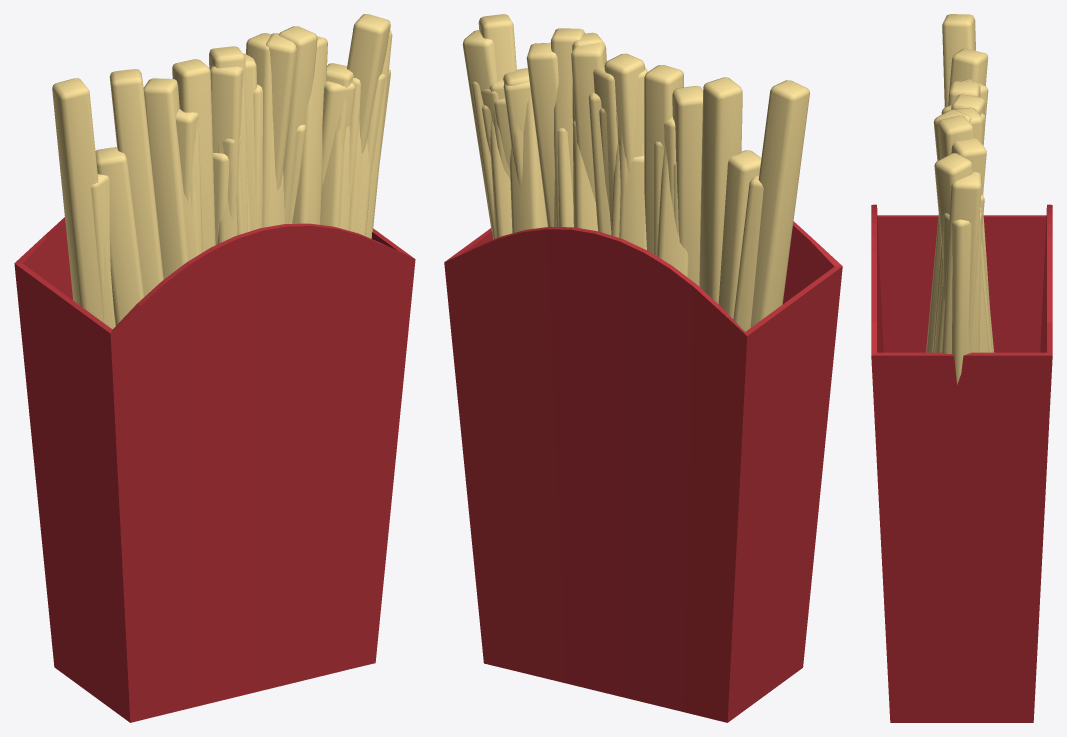
The model's file is food_fries.glb.
3 renders of one model, left to right at view 1: azimuth 30°, elevation 25°; view 2: azimuth 150°, elevation 25°; view 3: azimuth 270°, elevation 25°, orthographic. The views are drawn at different scales.
Parts seen in each view (by area): view 1: Carton_LOD0, Fry_LOD0.006, Fry_LOD0.019, Fry_LOD0.029, Fry_LOD0.015, Fry_LOD0.011, Fry_LOD0.001, Fry_LOD0.027, Fry_LOD0.026, Fry_LOD0.030, Fry_LOD0.020, Fry_LOD0.003 (+19 smaller); view 2: Carton_LOD0, Fry_LOD0.006, Fry_LOD0.019, Fry_LOD0.029, Fry_LOD0.015, Fry_LOD0.001, Fry_LOD0.011, Fry_LOD0.027, Fry_LOD0.010, Fry_LOD0.016, Fry_LOD0.030, Fry_LOD0.004 (+16 smaller); view 3: Carton_LOD0, Fry_LOD0.024, Fry_LOD0.017, Fry_LOD0.027, Fry_LOD0.006, Fry_LOD0.019, Fry_LOD0.030, Fry_LOD0.029, Fry_LOD0.001, Fry_LOD0.020, Fry_LOD0.011, Fry_LOD0.003 (+3 smaller).
Boxes of the visible parts, bbox=[...] form: Carton_LOD0: bbox=[14, 217, 415, 722]; Fry_LOD0.006: bbox=[52, 78, 112, 329]; Fry_LOD0.019: bbox=[109, 69, 163, 296]; Fry_LOD0.029: bbox=[143, 78, 190, 279]; Fry_LOD0.015: bbox=[95, 147, 143, 325]; Fry_LOD0.011: bbox=[172, 59, 215, 251]; Fry_LOD0.001: bbox=[292, 36, 327, 224]; Fry_LOD0.027: bbox=[347, 14, 390, 153]; Fry_LOD0.026: bbox=[210, 66, 243, 221]; Fry_LOD0.030: bbox=[278, 26, 317, 223]; Fry_LOD0.020: bbox=[266, 33, 296, 191]; Fry_LOD0.003: bbox=[209, 46, 247, 243]; Carton_LOD0: bbox=[444, 221, 842, 722]; Fry_LOD0.006: bbox=[750, 80, 809, 327]; Fry_LOD0.019: bbox=[699, 77, 742, 303]; Fry_LOD0.029: bbox=[672, 86, 702, 286]; Fry_LOD0.015: bbox=[718, 150, 761, 318]; Fry_LOD0.001: bbox=[526, 42, 558, 226]; Fry_LOD0.011: bbox=[644, 65, 683, 254]; Fry_LOD0.027: bbox=[478, 14, 516, 238]; Fry_LOD0.010: bbox=[510, 94, 545, 233]; Fry_LOD0.016: bbox=[571, 42, 606, 202]; Fry_LOD0.030: bbox=[551, 28, 584, 226]; Fry_LOD0.004: bbox=[733, 175, 763, 331]; Carton_LOD0: bbox=[871, 204, 1052, 722]; Fry_LOD0.024: bbox=[942, 213, 981, 384]; Fry_LOD0.017: bbox=[942, 171, 981, 353]; Fry_LOD0.027: bbox=[934, 153, 989, 352]; Fry_LOD0.006: bbox=[942, 14, 975, 107]; Fry_LOD0.019: bbox=[948, 48, 988, 105]; Fry_LOD0.030: bbox=[938, 115, 982, 276]; Fry_LOD0.029: bbox=[926, 79, 988, 352]; Fry_LOD0.001: bbox=[933, 138, 986, 352]; Fry_LOD0.020: bbox=[933, 109, 994, 352]; Fry_LOD0.011: bbox=[948, 81, 980, 105]; Fry_LOD0.003: bbox=[951, 94, 985, 115].
Bounding box in the file's own units: 0.0968 × 0.1704 × 0.048.
